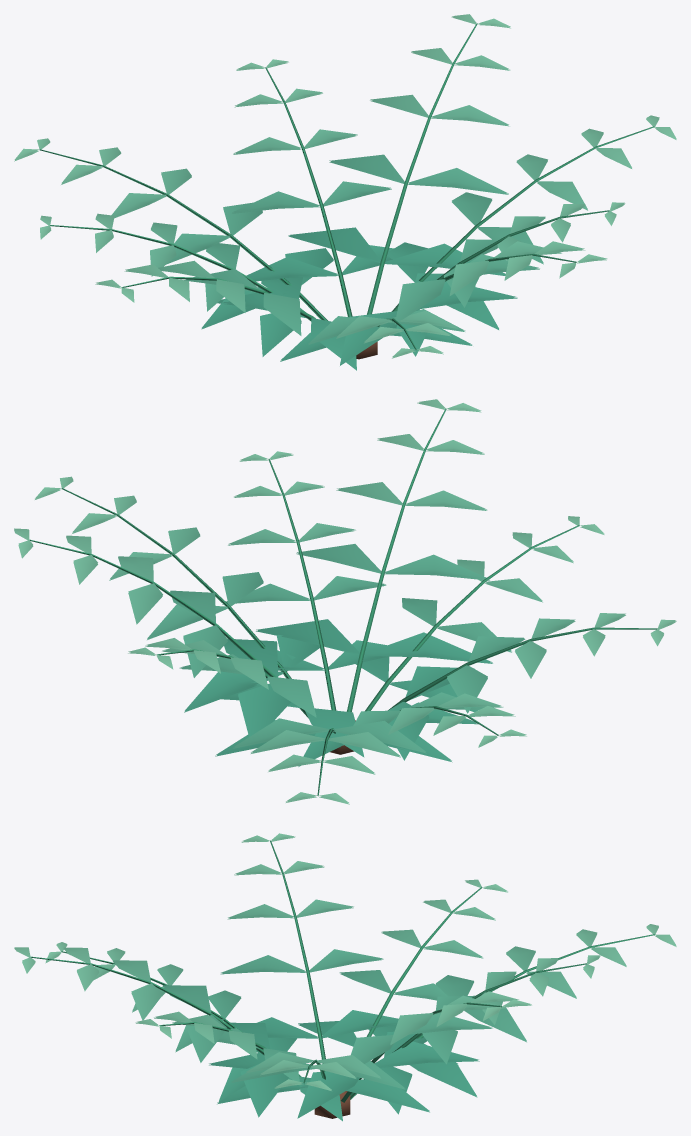
Rendered from flora_fern_b.gltf.
The picture shows the model from 3 angles, top to bottom: view 1: azimuth 30°, elevation 25°; view 2: azimuth 150°, elevation 25°; view 3: azimuth 270°, elevation 25°; orthographic projection. The views are drawn at different scales.
Visible parts, largest first — view 1: flora_fern_b; view 2: flora_fern_b; view 3: flora_fern_b.
Part boxes in pixels (<box>): flora_fern_b: <box>14,14,676,370</box>; flora_fern_b: <box>14,399,676,804</box>; flora_fern_b: <box>14,833,676,1121</box>.
Size of what is drawn, in the model's own units: 1.33 by 0.491 by 1.4.
